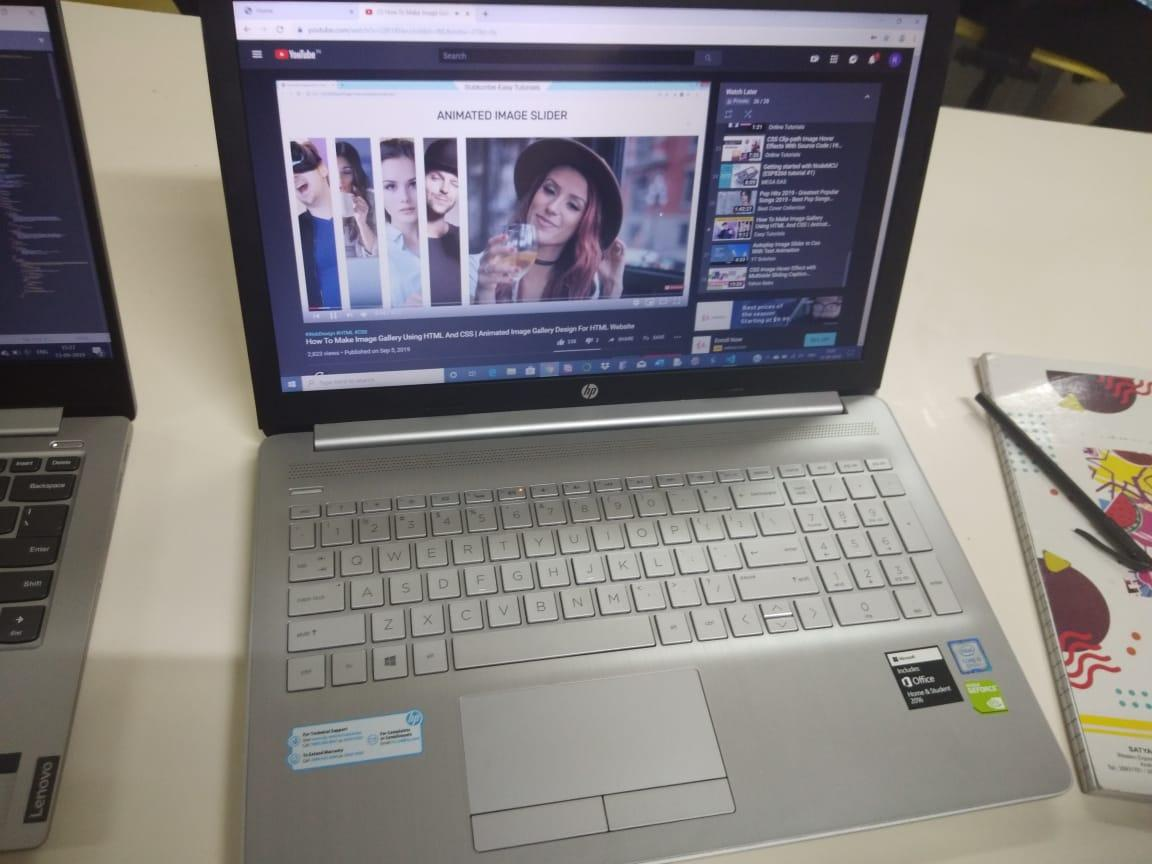laptop: (184, 2, 1106, 864)
